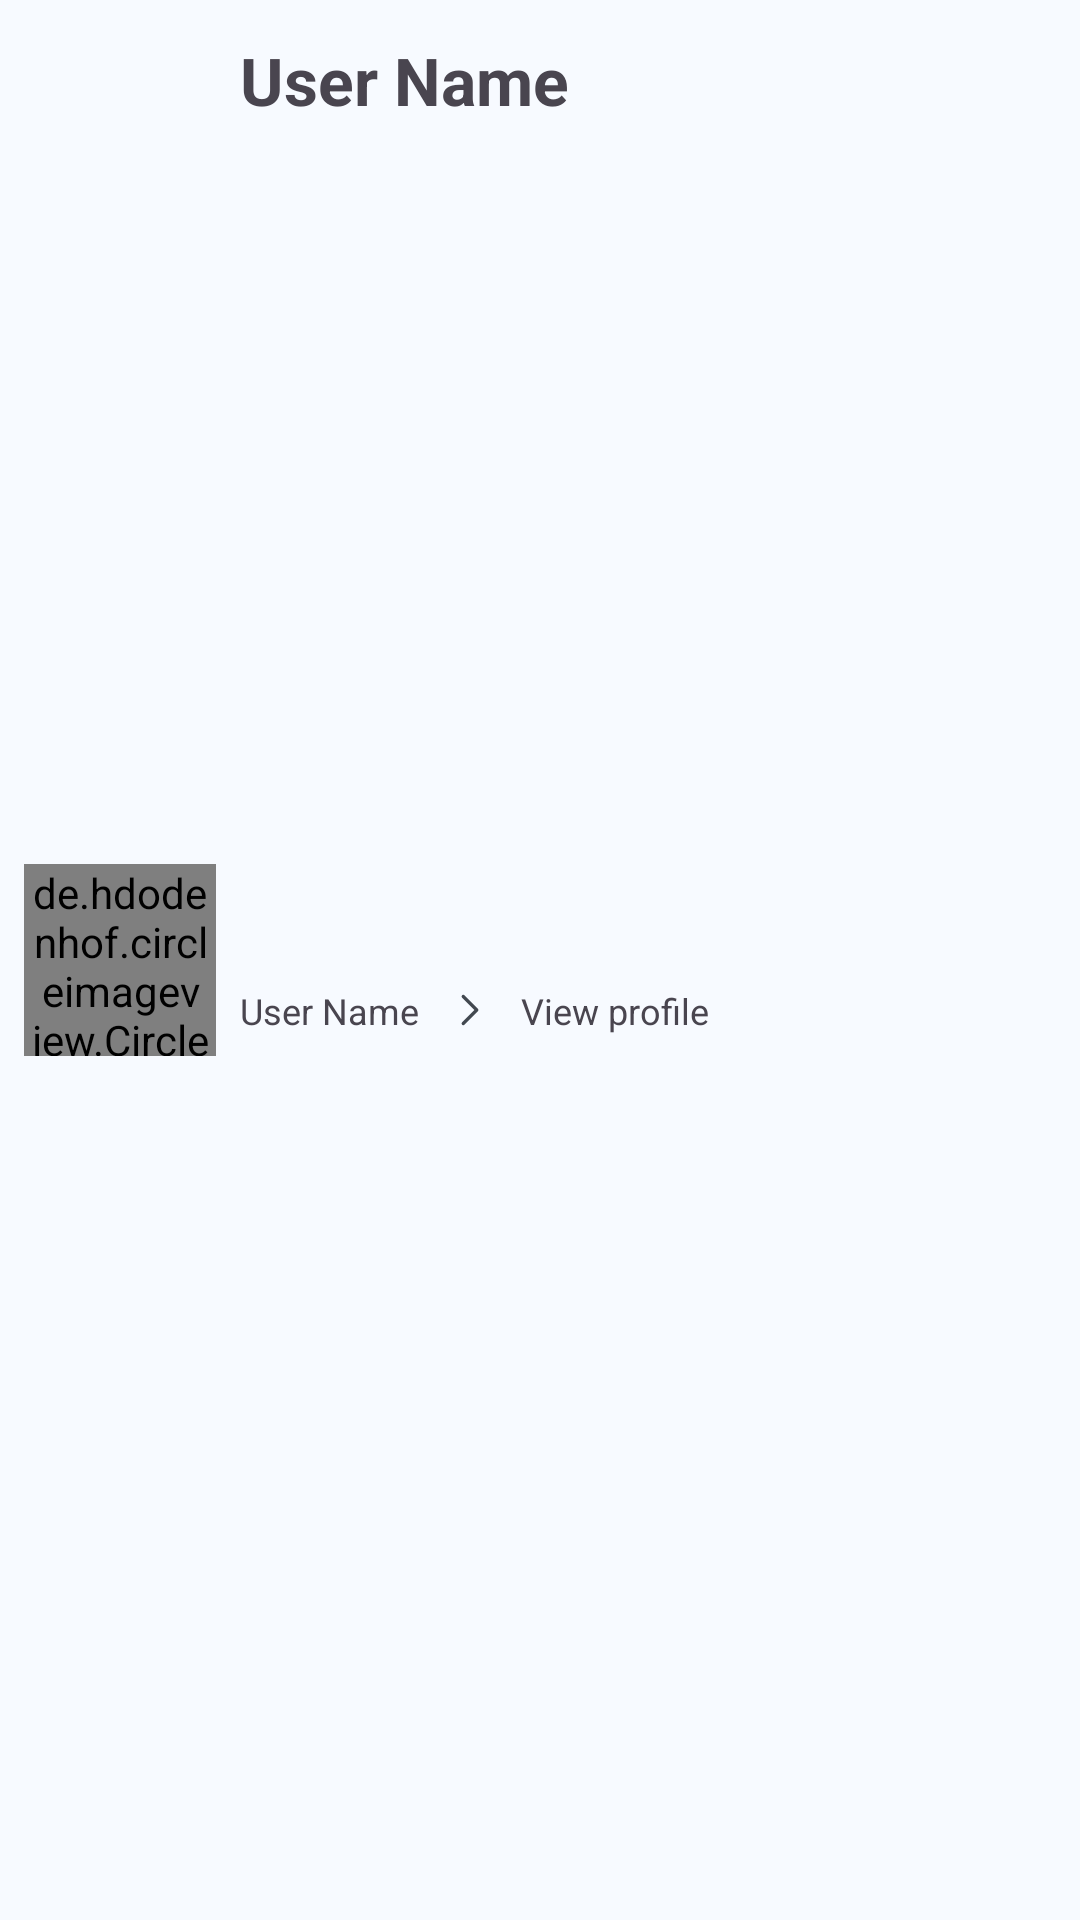

Icon click points for this 1080px×1920px phone screenshot, format [x,y]:
chevron right: [470,1010]
